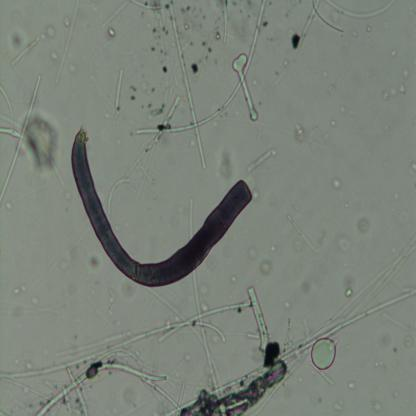Background material: (180, 339, 286, 416), (26, 116, 61, 172), (381, 81, 406, 104), (330, 390, 352, 414), (84, 252, 102, 271), (319, 370, 336, 388), (258, 257, 272, 278), (344, 273, 354, 300), (222, 1, 228, 44), (10, 32, 24, 50), (128, 78, 138, 103), (105, 287, 114, 312), (358, 216, 370, 234), (296, 124, 306, 144), (332, 172, 342, 192), (371, 400, 386, 412), (18, 284, 30, 298), (292, 32, 300, 51), (190, 59, 200, 74), (47, 24, 57, 38), (62, 14, 72, 27), (329, 80, 338, 94), (107, 28, 118, 39), (404, 65, 413, 78), (391, 48, 399, 62), (30, 296, 40, 307), (103, 110, 110, 124), (346, 381, 356, 388), (52, 52, 60, 60), (283, 59, 289, 68), (411, 162, 416, 172), (331, 121, 336, 128), (322, 74, 328, 79), (326, 138, 330, 142)
Glass filter fibre: (0, 308, 242, 392), (135, 2, 266, 136), (281, 238, 416, 365), (34, 356, 168, 414), (168, 2, 208, 174), (0, 72, 43, 199), (192, 270, 226, 396), (55, 1, 83, 86), (231, 54, 259, 122), (247, 285, 270, 351), (286, 214, 320, 256), (323, 1, 402, 19), (10, 35, 44, 68), (106, 174, 132, 216), (99, 0, 131, 31), (300, 2, 322, 44), (312, 337, 337, 372), (246, 148, 275, 174), (112, 66, 127, 110), (0, 83, 14, 129), (185, 195, 195, 240), (175, 380, 185, 414), (0, 123, 20, 138)
Microfibre: (69, 126, 254, 287)
